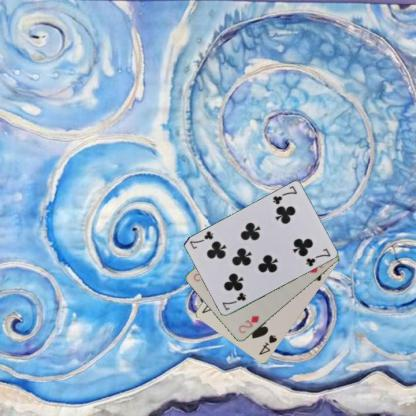2d: (236, 313, 260, 335)
4s: (256, 332, 278, 357)
7c: (270, 183, 298, 206), (220, 290, 247, 311)
